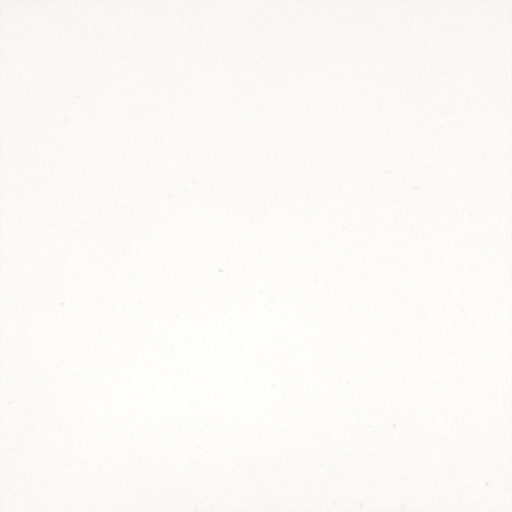lego: (215, 214, 299, 300)
